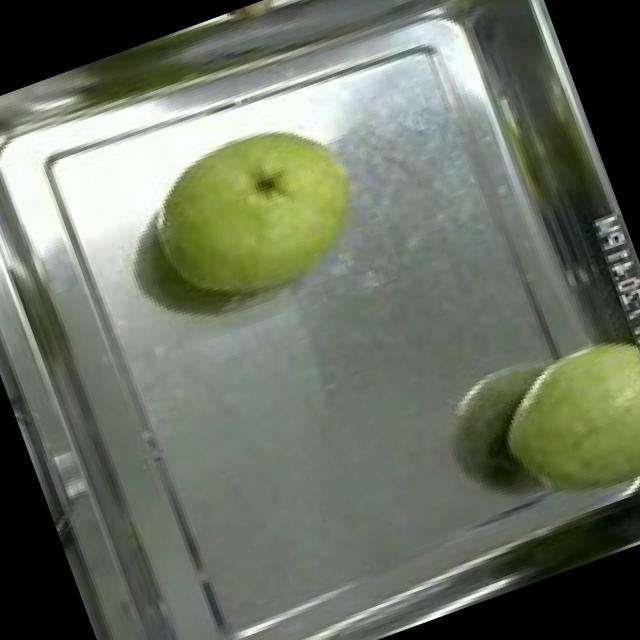Fruit: (125, 93, 387, 334), (466, 307, 640, 544)
